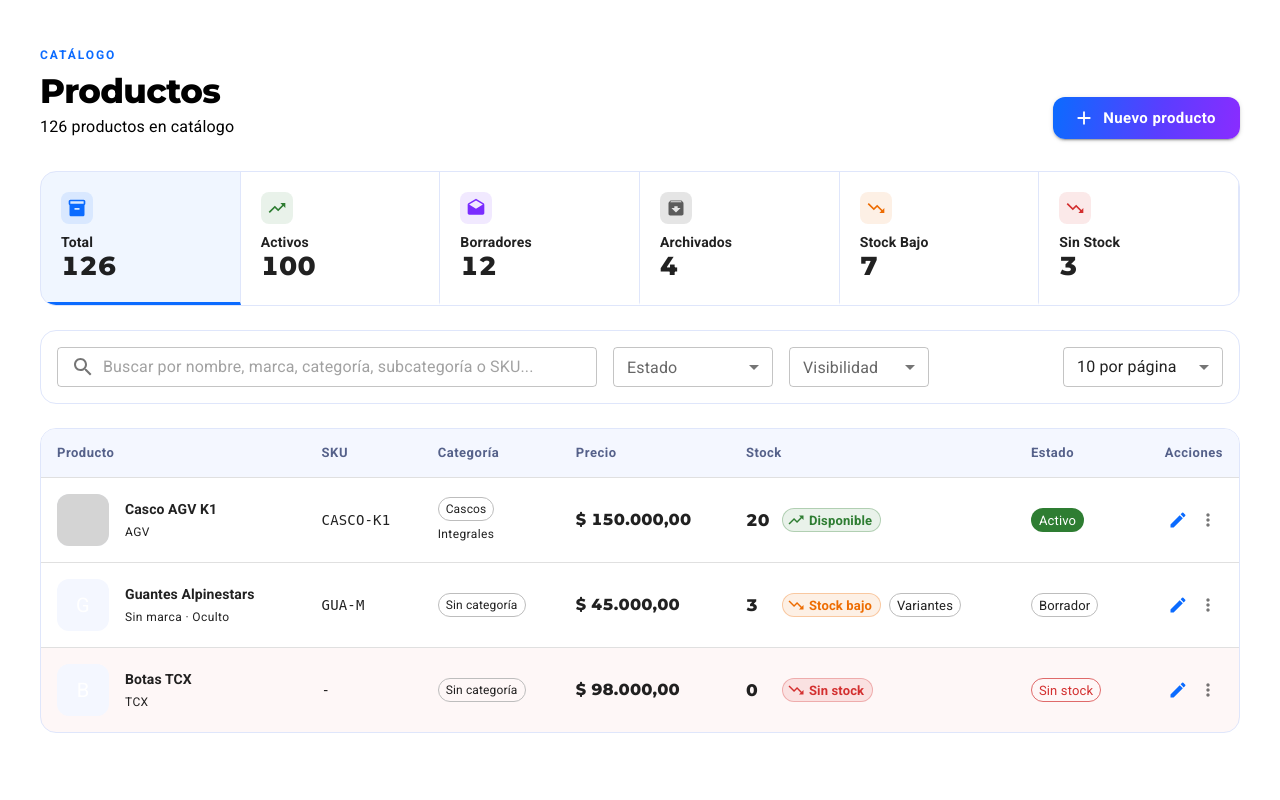
Test: Lista de productos · acciones › editar el stock manda stock y umbral como enteros no negativos
The image size is (1280, 800).
Step 1. Click the button named "más acciones" in the row of "Casco AGV K1" → (1208, 520), box [1193,506,1223,536]
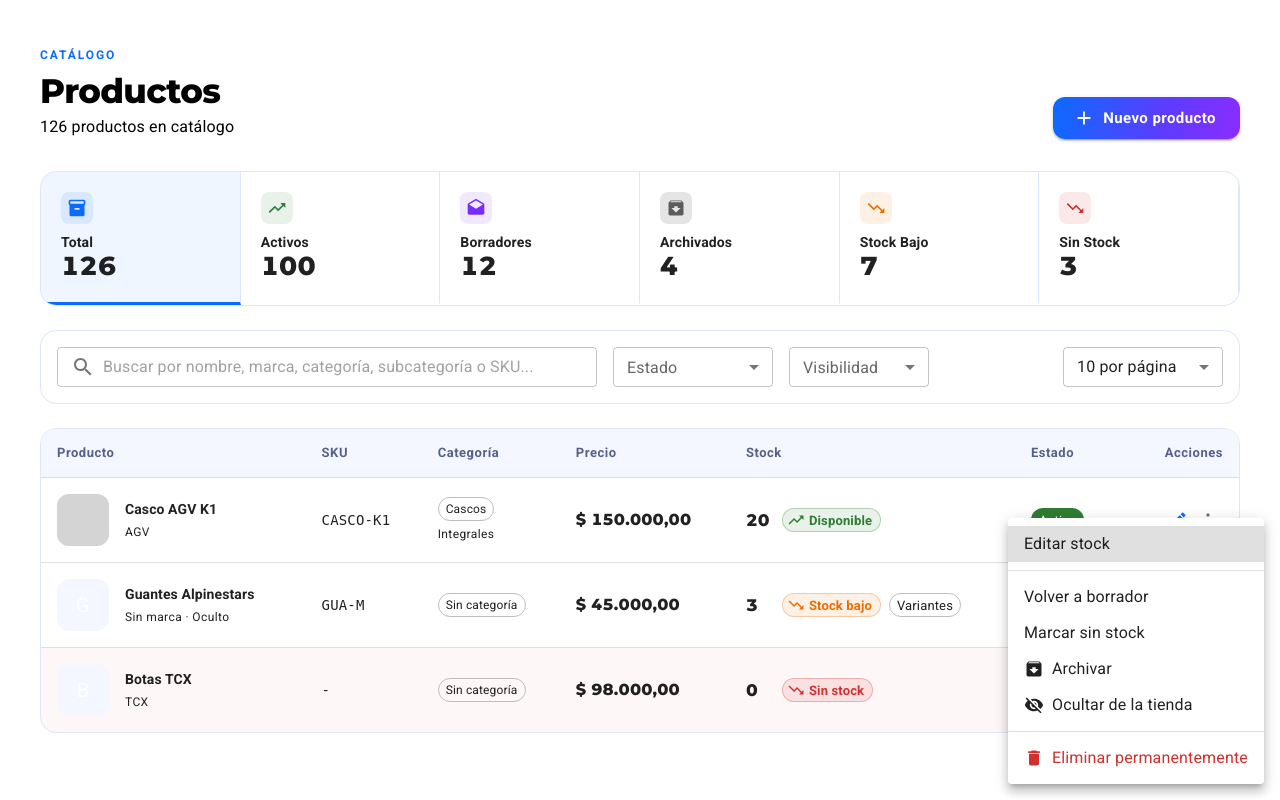
Step 2. Click the menu item "Editar stock" → (1136, 544), box [1008,526,1264,562]
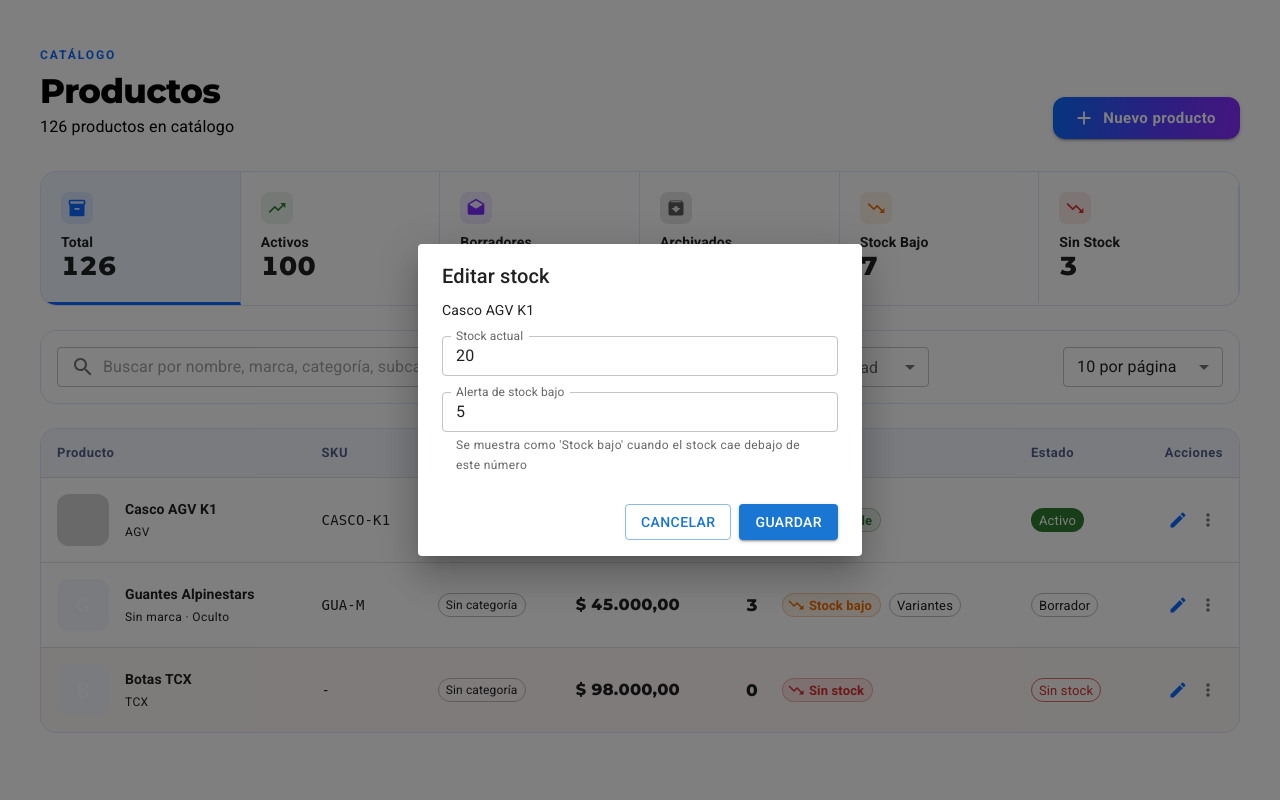
Result: the number field labelled "Stock actual" holds "20"
Result: the number field labelled "Alerta de stock bajo" holds "5" at [442,392,838,432]
Step 3. Replace the text in the number field labelled "Stock actual" with "12.9" → (640, 356), box [442,336,838,376]
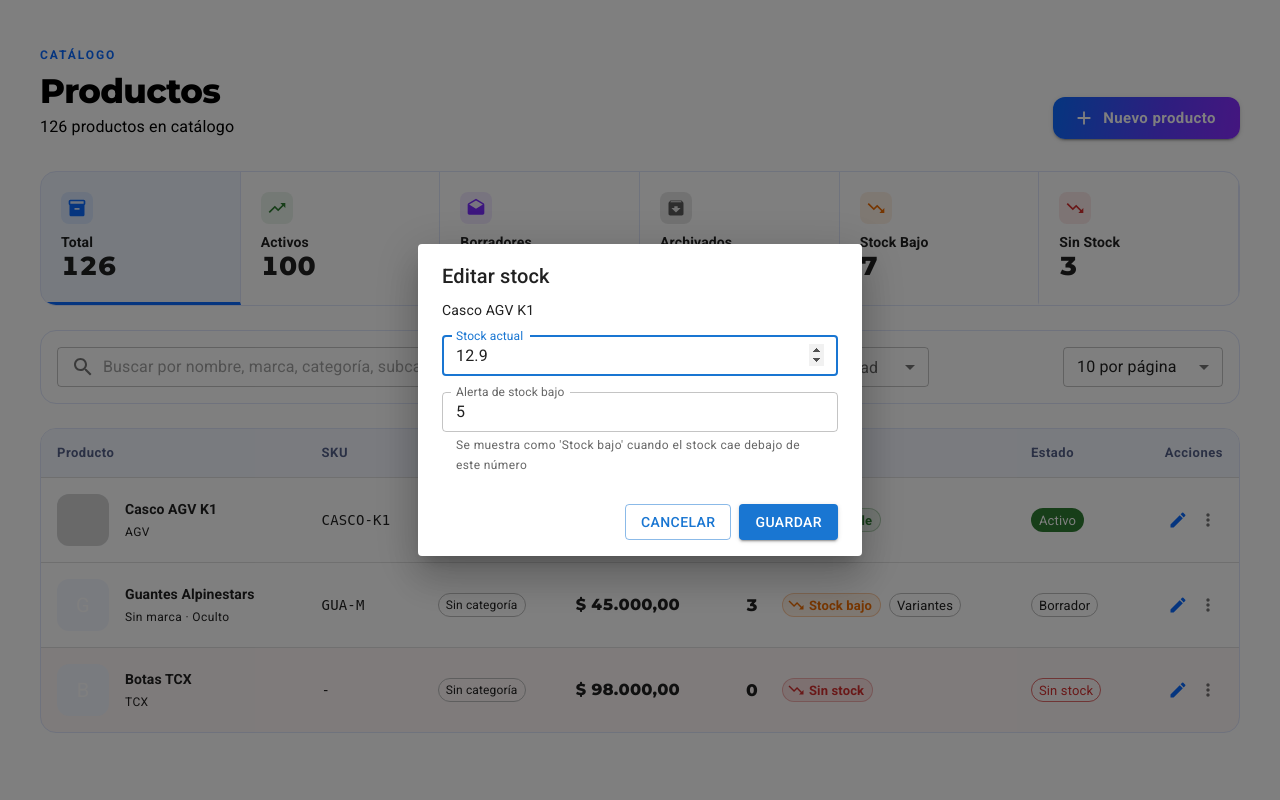
Step 4. Replace the text in the number field labelled "Alerta de stock bajo" with "-3" → (640, 412), box [442,392,838,432]
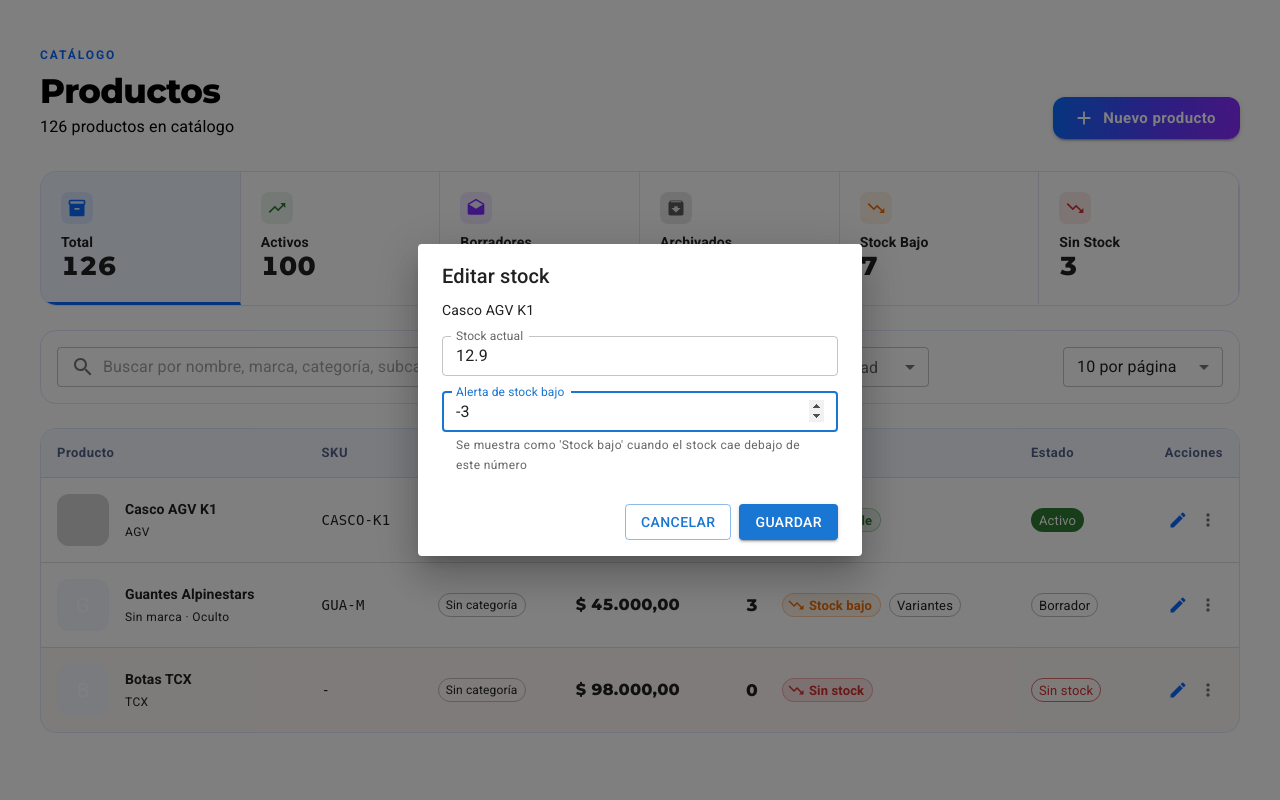
Step 5. Click the button "Guardar" → (789, 522), box [740,504,838,540]
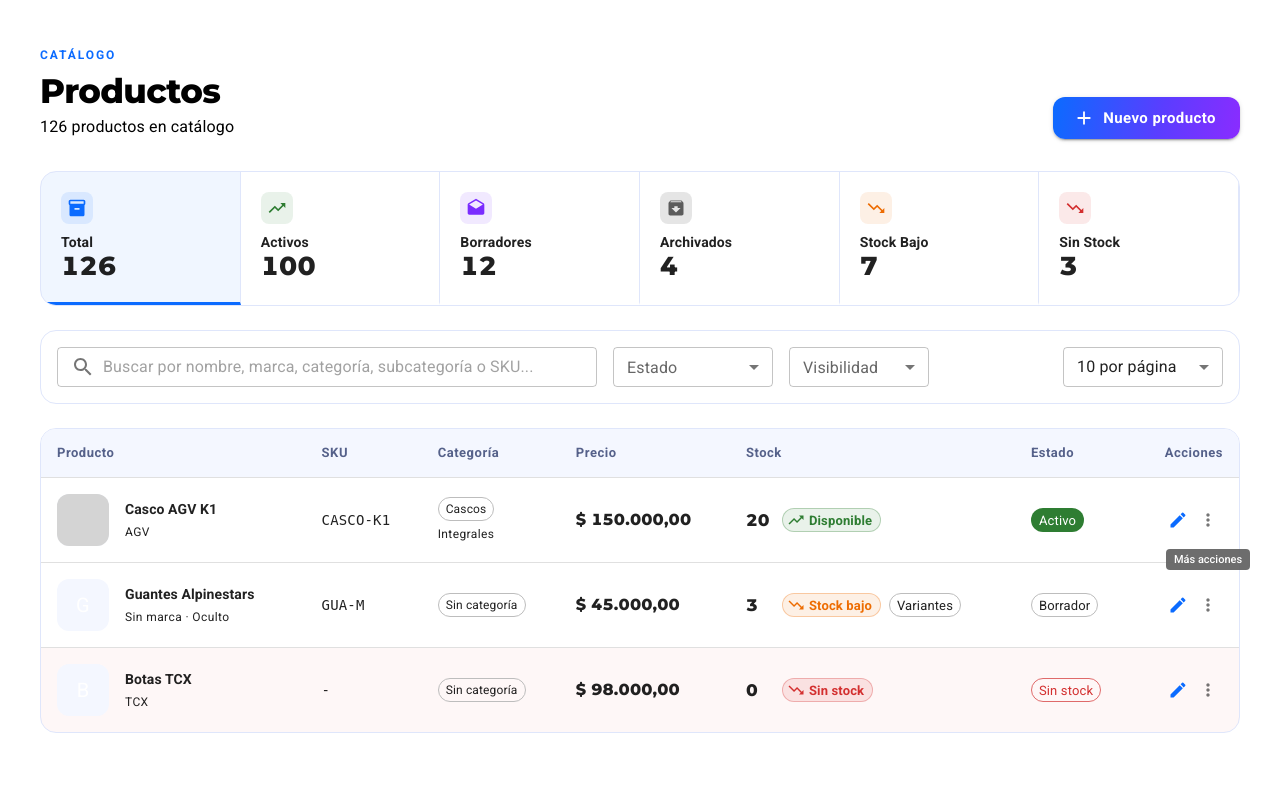
Result: the dialog is gone
